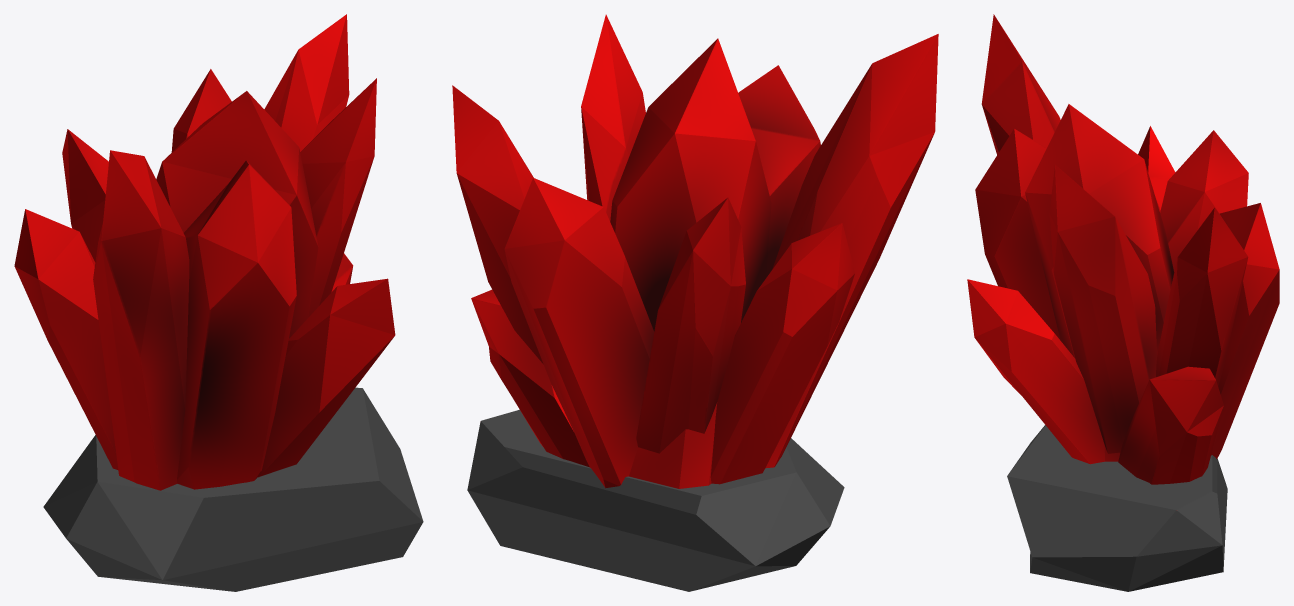
Rendered from CrystalV2.fbx.
3 renders of one model, left to right at view 1: azimuth 30°, elevation 25°; view 2: azimuth 150°, elevation 25°; view 3: azimuth 270°, elevation 25°, orthographic. The views are drawn at different scales.
Visible parts, largest first — view 1: Crystal_Cluster_v2; view 2: Crystal_Cluster_v2; view 3: Crystal_Cluster_v2.
Part boxes in pixels (<box>): Crystal_Cluster_v2: <box>14,14,423,591</box>; Crystal_Cluster_v2: <box>452,14,938,591</box>; Crystal_Cluster_v2: <box>967,14,1279,591</box>.
Bounding box in the file's own units: 1.04 × 1.33 × 0.8753.
